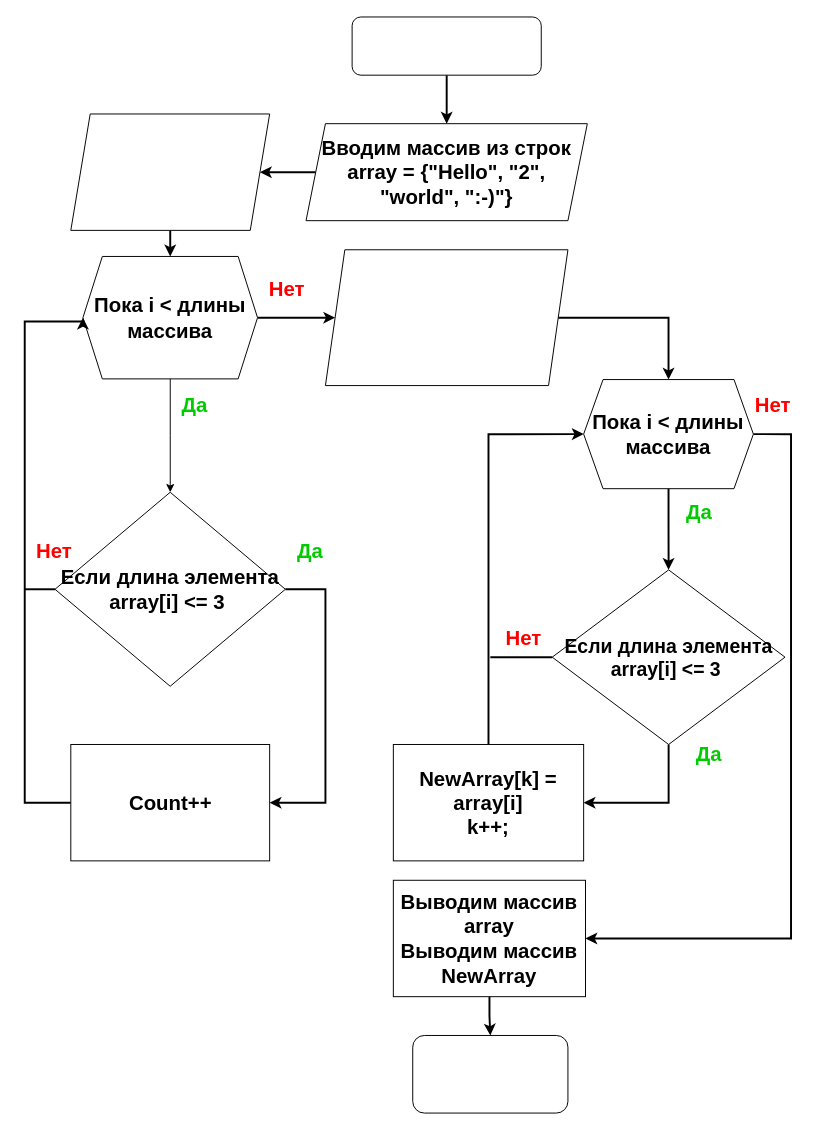
Some shapes in this 819 by 1130 pixel diagram are drawn without their labels. The shapes that lost their labels are listed below. From the top down, each one's centre as x and y in pixels, then its label:
(446,45): Начало
(170,171): Int count = 0 int i = 0
(446,317): (Создаем новый массив длинной - count) string[] NewArray int k = 0
(490,1074): Конец
